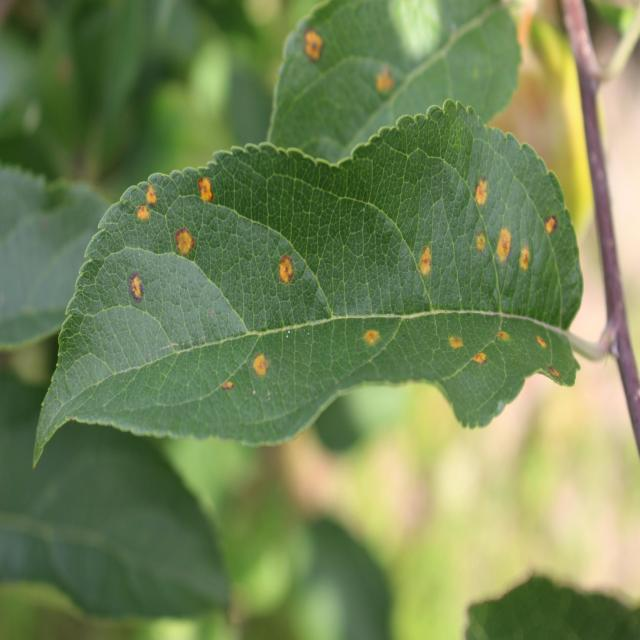Rust: (189, 160, 221, 225), (125, 178, 162, 230), (408, 236, 442, 290), (372, 63, 404, 114), (299, 16, 326, 76), (126, 258, 149, 316), (270, 246, 300, 290), (356, 319, 387, 357), (494, 215, 515, 268), (176, 217, 196, 268), (248, 344, 273, 382), (494, 318, 515, 363), (442, 324, 469, 357), (472, 172, 493, 210), (546, 362, 570, 395), (517, 244, 536, 282), (542, 209, 560, 245), (534, 328, 552, 359), (474, 226, 489, 261), (471, 349, 490, 376), (220, 373, 238, 396)
